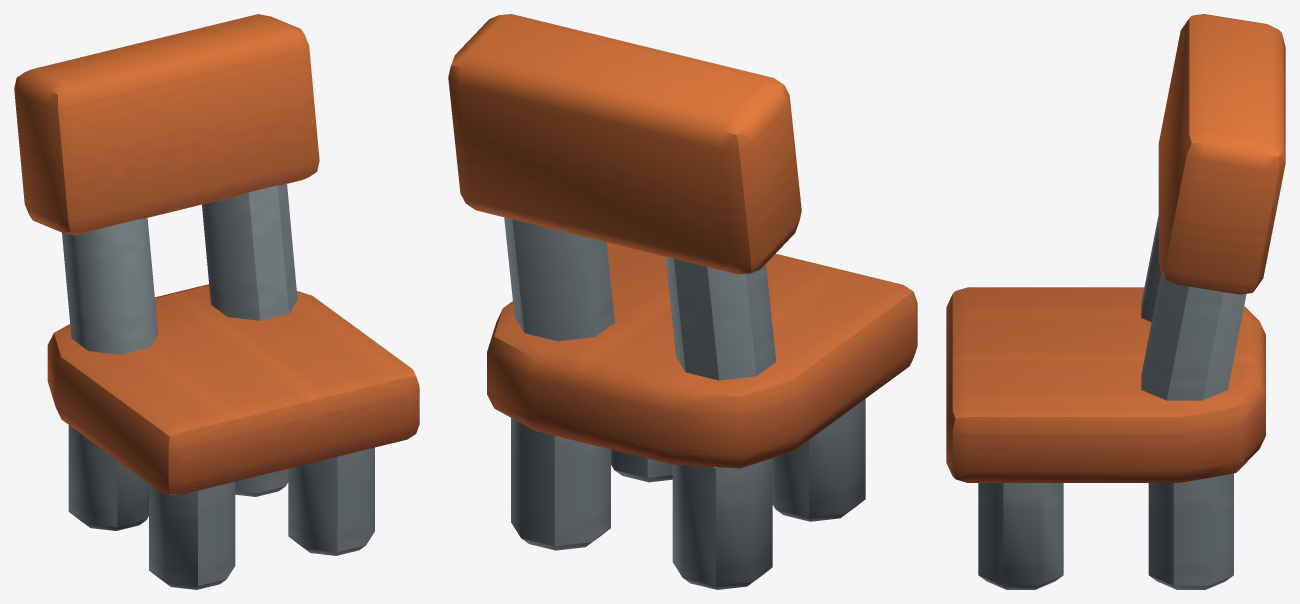
File: chair_A.gltf
The picture shows the model from 3 angles, left to right: view 1: azimuth 30°, elevation 25°; view 2: azimuth 150°, elevation 25°; view 3: azimuth 270°, elevation 25°; orthographic projection. The views are drawn at different scales.
Parts seen in each view (by area): view 1: chair_A; view 2: chair_A; view 3: chair_A.
Boxes of the visible parts, x1,y1,x2,y2 form: chair_A: (14, 14, 419, 589); chair_A: (448, 14, 917, 589); chair_A: (946, 14, 1285, 589).
Size of the model in its own units: 0.75 by 1.21 by 0.7962.
Materials: 1 (1 with a texture image).
